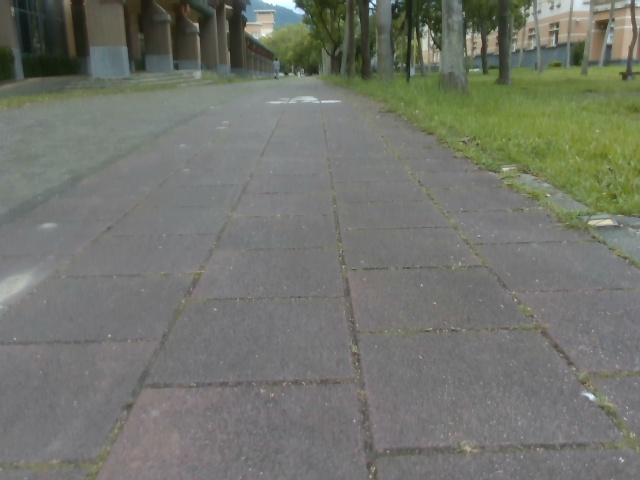grass: (316, 64, 639, 246), (261, 0, 441, 76), (0, 61, 269, 110), (463, 0, 552, 84)
road: (0, 77, 639, 479)
